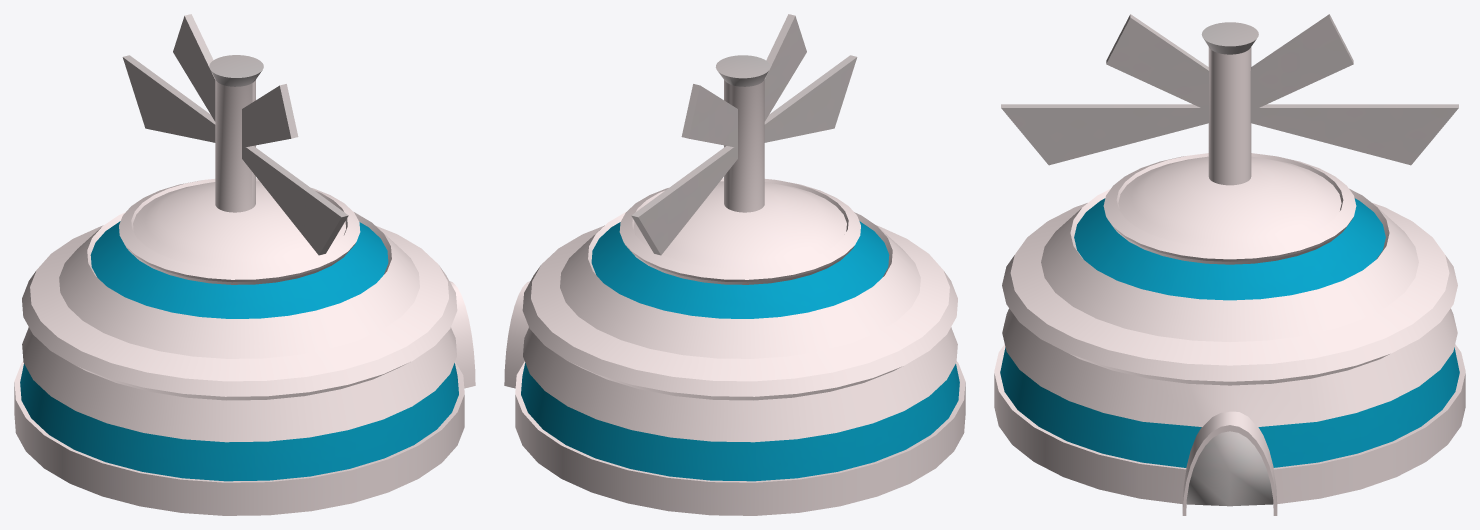
File: casa 4.fbx
The picture shows the model from 3 angles, left to right: view 1: azimuth 30°, elevation 25°; view 2: azimuth 150°, elevation 25°; view 3: azimuth 270°, elevation 25°; orthographic projection. The views are drawn at different scales.
Visible parts, largest first — view 1: Sphere.005, Cube.010, Sphere.006; view 2: Sphere.005, Cube.010, Sphere.006; view 3: Sphere.005, Cube.010, Sphere.007, Sphere.006.
Part boxes in pixels (left/top/right/bottom): Sphere.005: left=14, top=178, right=464, bottom=515; Cube.010: left=122, top=14, right=348, bottom=255; Sphere.006: left=450, top=281, right=475, bottom=388; Sphere.005: left=515, top=178, right=965, bottom=515; Cube.010: left=631, top=14, right=857, bottom=255; Sphere.006: left=504, top=281, right=529, bottom=388; Sphere.005: left=994, top=153, right=1465, bottom=503; Cube.010: left=1001, top=14, right=1458, bottom=185; Sphere.007: left=1186, top=431, right=1273, bottom=506; Sphere.006: left=1182, top=411, right=1277, bottom=515.
Size of the model in its own units: 1210 by 1054 by 1157.
2 materials, 2 textured.
